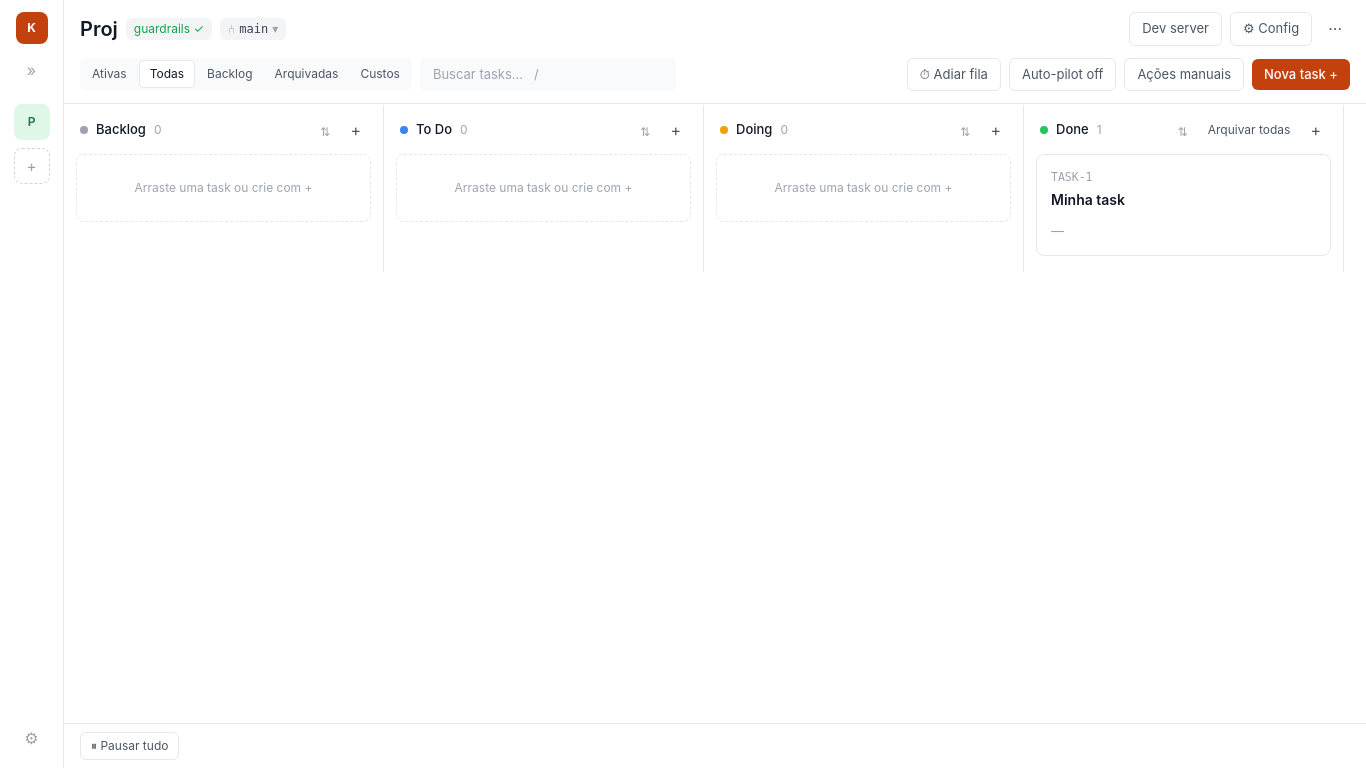
Test: view de Custos › atualiza ao receber run.finished pelo WebSocket
Expected: the text "Minha task" is shown, [1051, 191, 1125, 208]
Click the button "Custos" at [380, 74], box [350, 61, 410, 87]
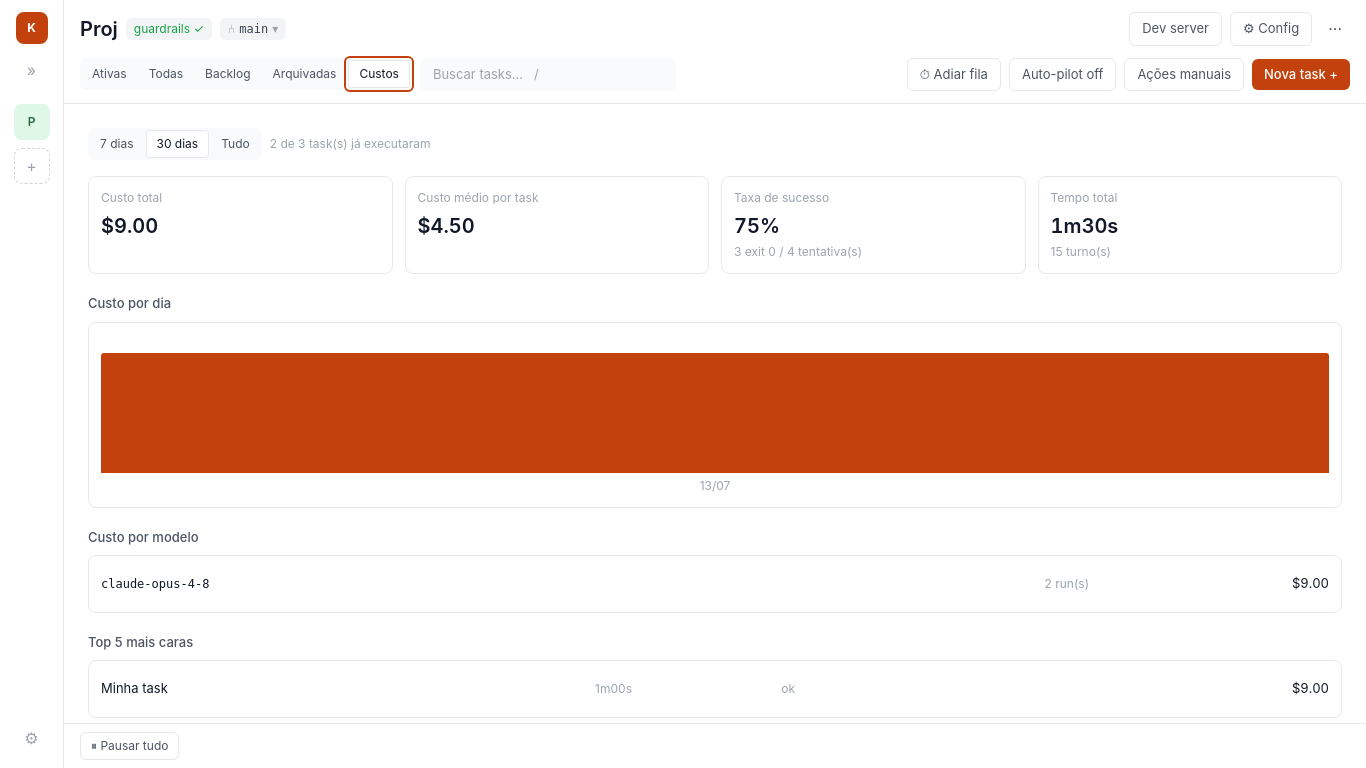
Expected: the text "Custo total" is shown, [101, 190, 162, 205]
